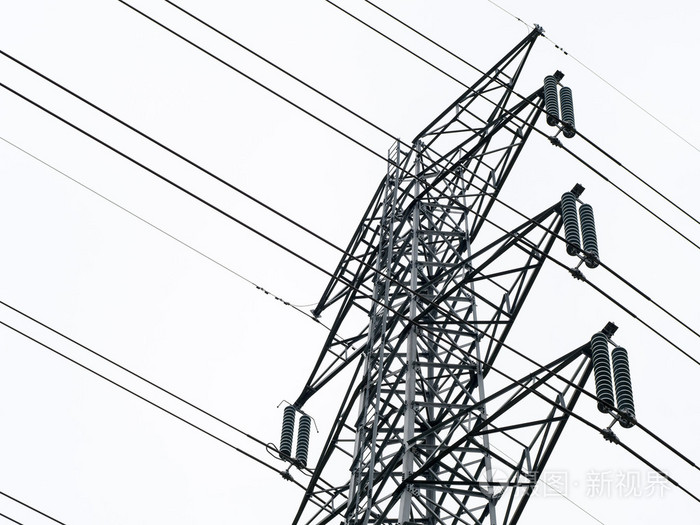insulator: (612, 347, 638, 428), (592, 332, 615, 411), (559, 191, 582, 255), (579, 205, 601, 268), (542, 75, 561, 124), (560, 88, 577, 137), (278, 407, 294, 455), (295, 416, 311, 464)
